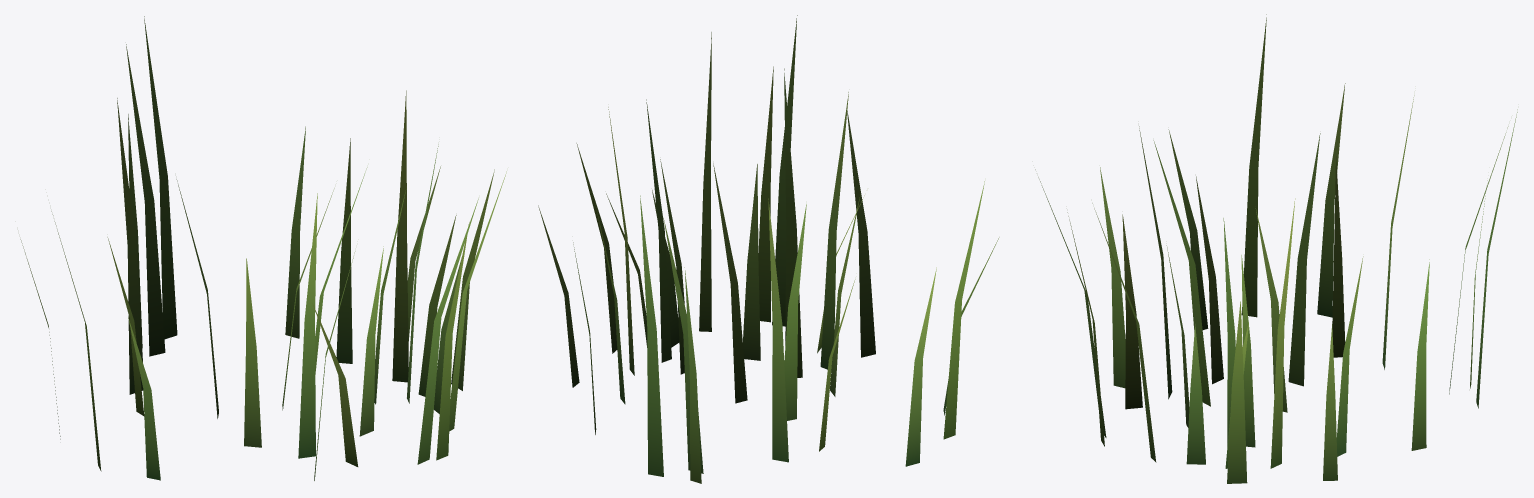
File: grass-lawn-a.lod1.glb
The picture shows the model from 3 angles, left to right: view 1: azimuth 30°, elevation 25°; view 2: azimuth 150°, elevation 25°; view 3: azimuth 270°, elevation 25°; orthographic projection. The views are drawn at different scales.
Parts seen in each view (by area): view 1: grass-lawn-a.lod1; view 2: grass-lawn-a.lod1; view 3: grass-lawn-a.lod1.
Boxes of the visible parts, bbox=[...] form: grass-lawn-a.lod1: bbox=[20, 16, 506, 480]; grass-lawn-a.lod1: bbox=[538, 15, 999, 483]; grass-lawn-a.lod1: bbox=[1035, 14, 1517, 483].
Bounding box in the file's own units: 0.2868 × 0.1936 × 0.2835.
